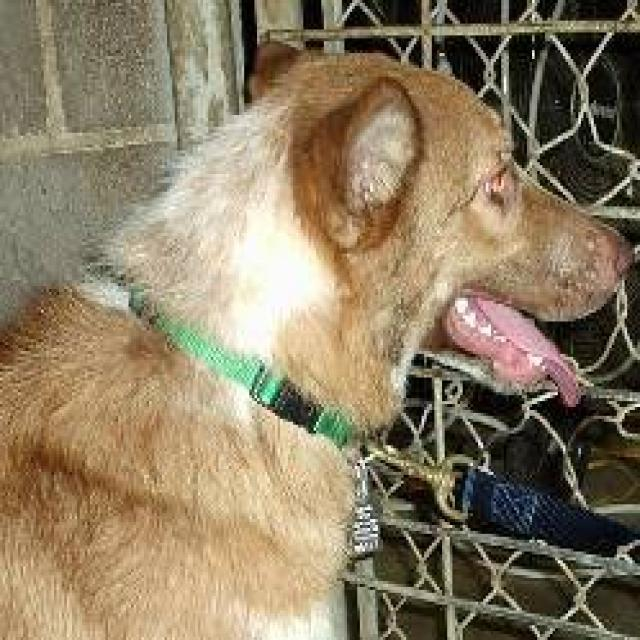Dog: (246, 33, 636, 413)
